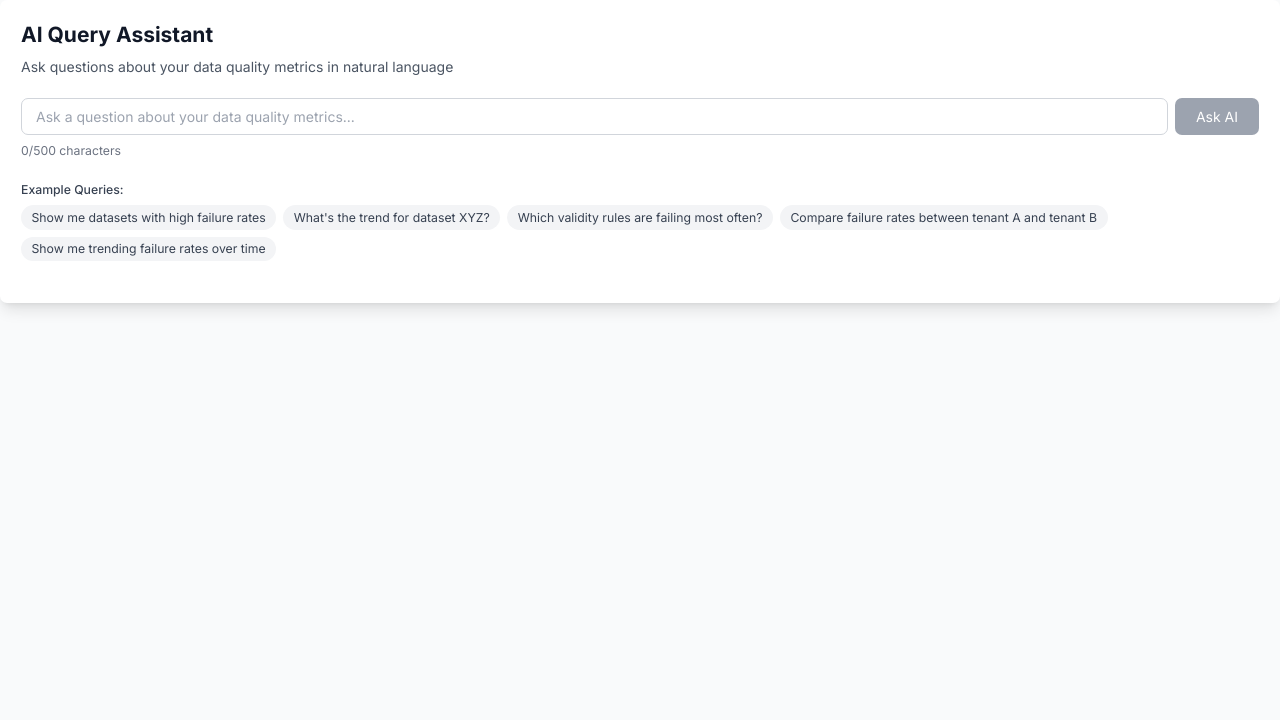
AIQuerySection › clears previous results when new query is submitted
Step 1. Type "First query" into the field with placeholder "Ask a question about your data quality metrics..." → [594, 116], box [21,98,1168,135]
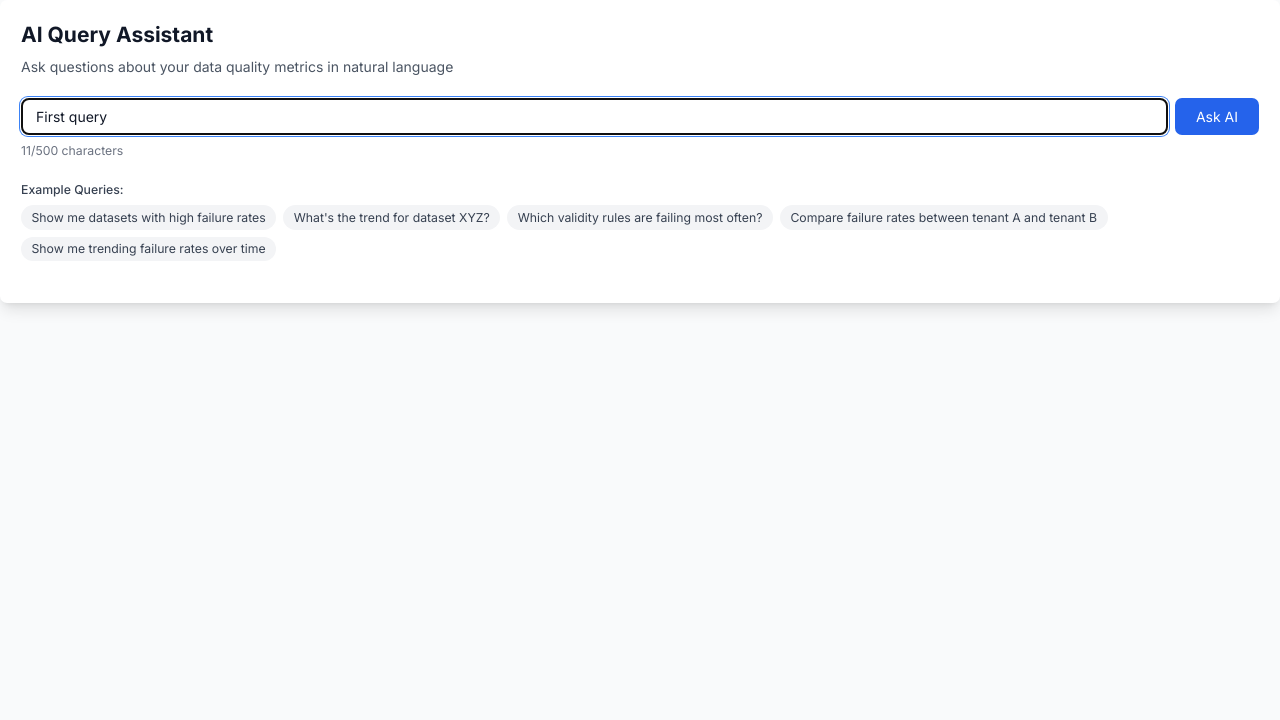
Step 2. Click the button "Ask AI" → [1217, 116], box [1175,98,1259,135]
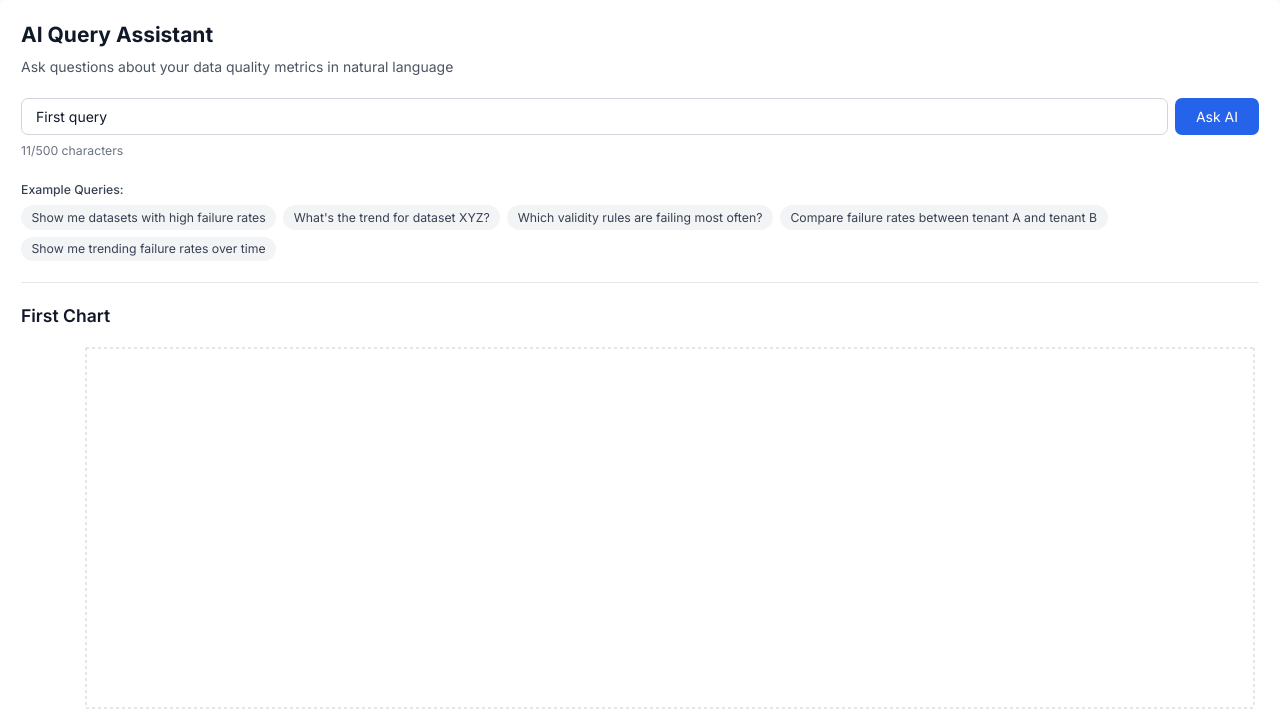
Now the heading "First Chart" is shown, box [21,305,110,326]
Step 3. Replace the text in the field with placeholder "Ask a question about your data quality metrics..." with "Second query" → [594, 116], box [21,98,1168,135]
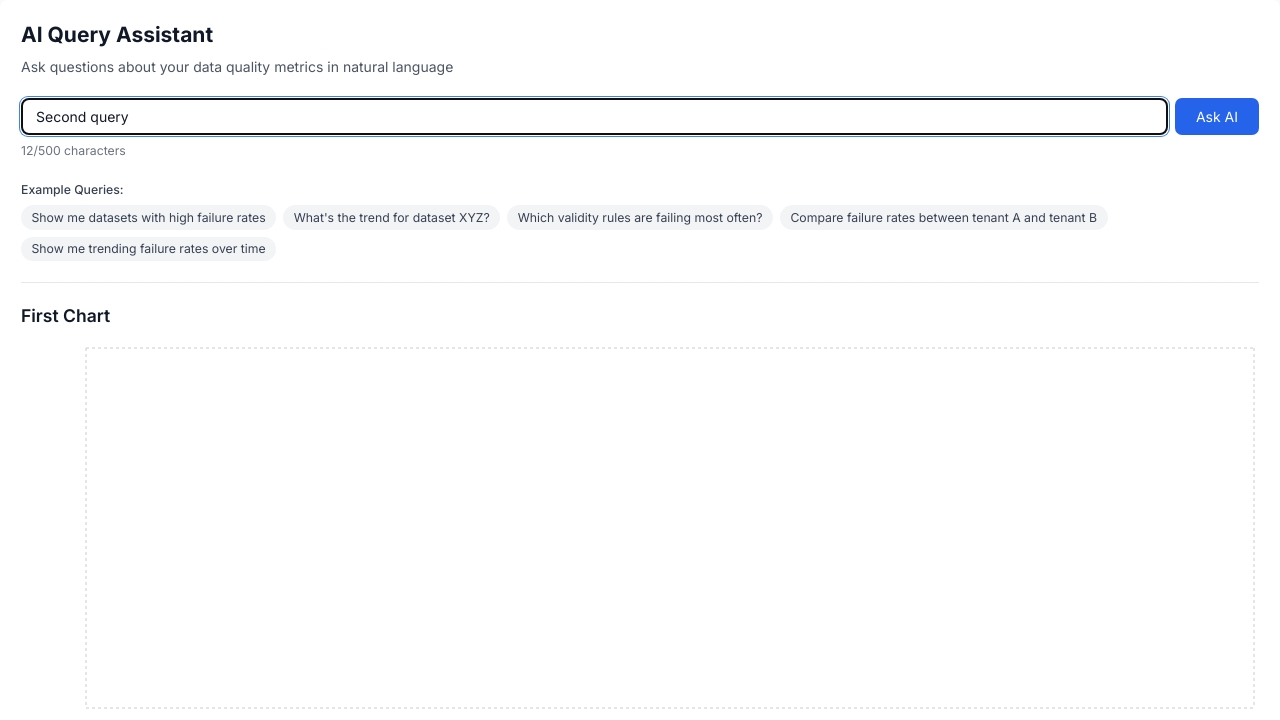
Step 4. Click the button "Ask AI" → [1217, 116], box [1175,98,1259,135]
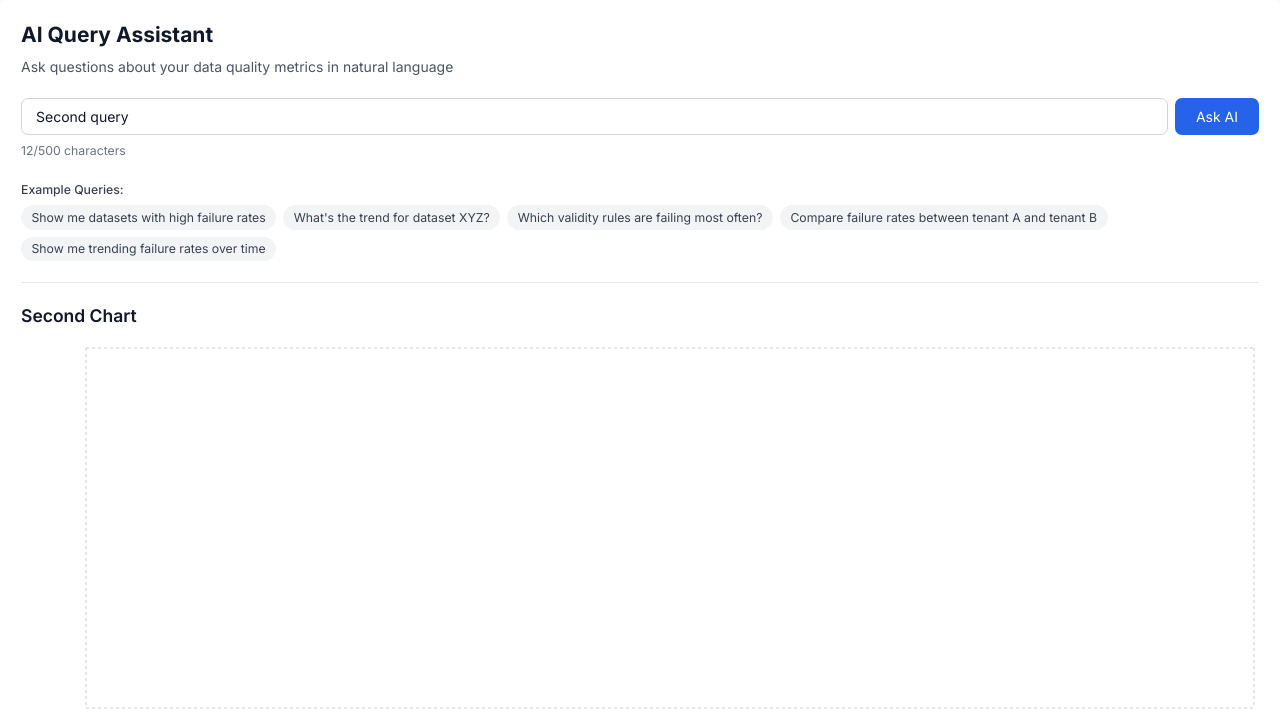
Now the heading "Second Chart" is shown, box [21,305,137,326]
Now the heading "First Chart" is gone
